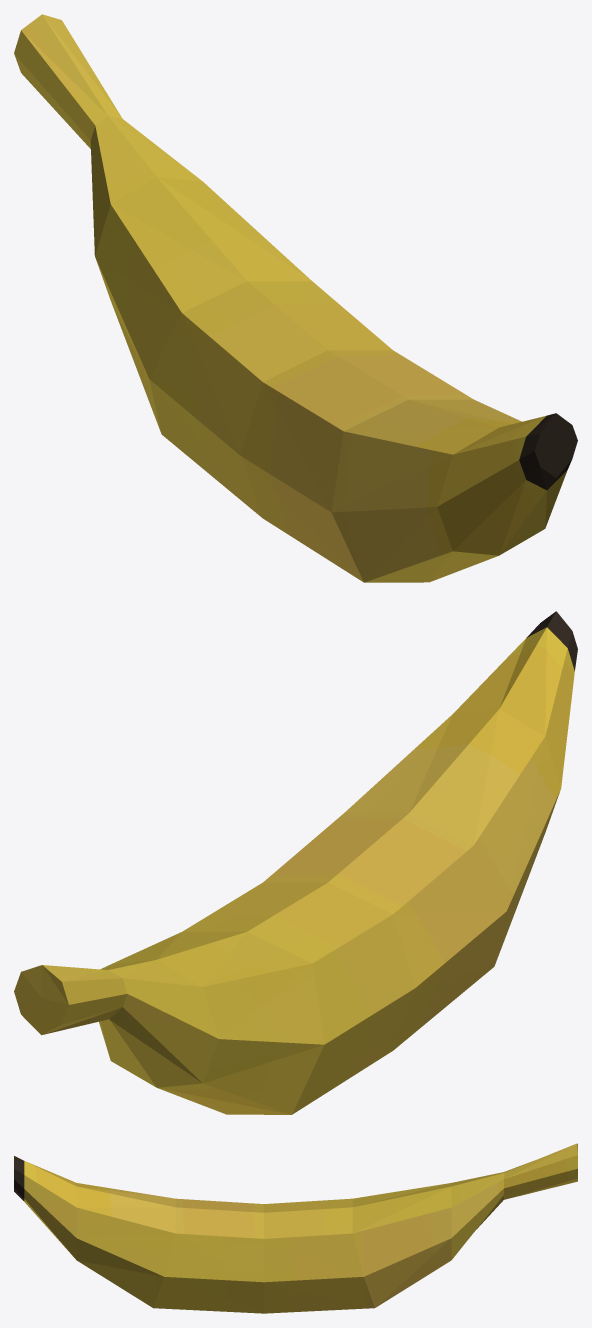
File: Banana.glb
3 views of the same model, one above another, from view 1: azimuth 30°, elevation 25°; view 2: azimuth 150°, elevation 25°; view 3: azimuth 270°, elevation 25° (orthographic). The views are drawn at different scales.
Bounding box in the file's own units: 0.2843 × 0.4573 × 1.45.
Materials: 1 (1 with a texture image).
